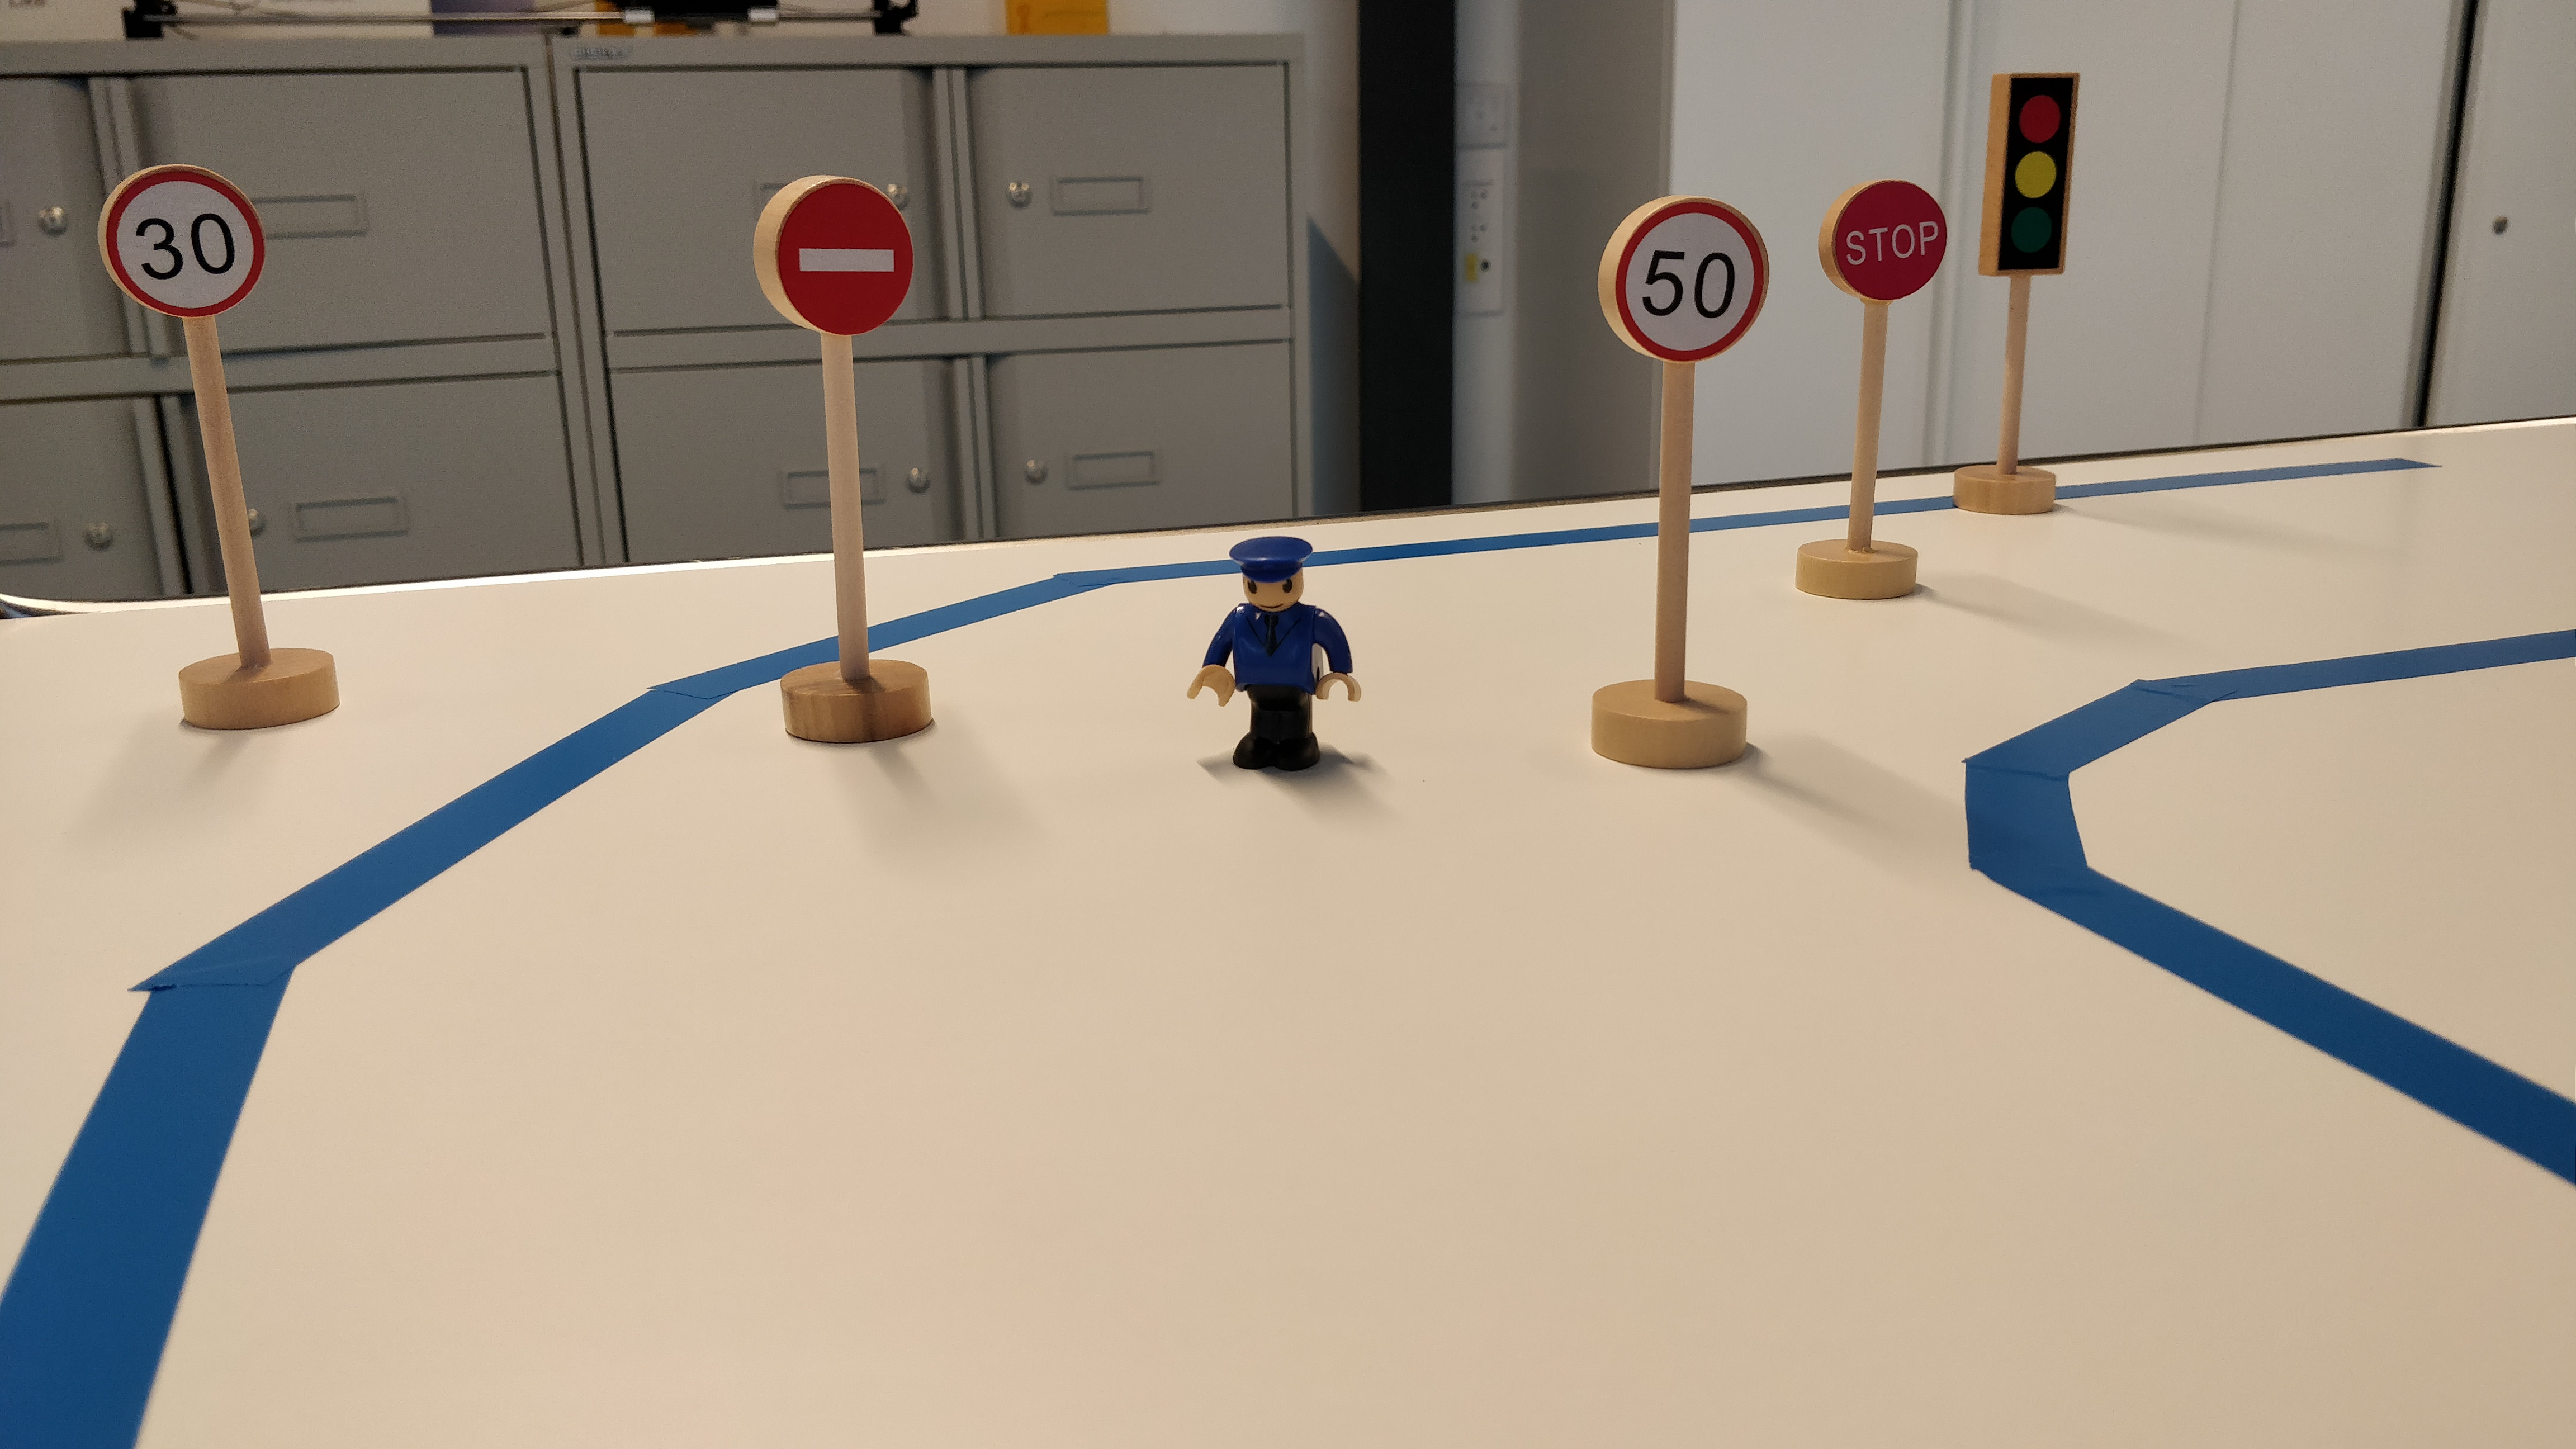Person: (1182, 532, 1371, 784)
Prohibition Sign: (745, 169, 919, 338)
Speed Limit 30: (94, 158, 270, 324)
Speed Limit 50: (1593, 189, 1774, 371)
Stop Sign: (1816, 171, 1952, 309)
Traffic Light: (1976, 69, 2086, 277)
